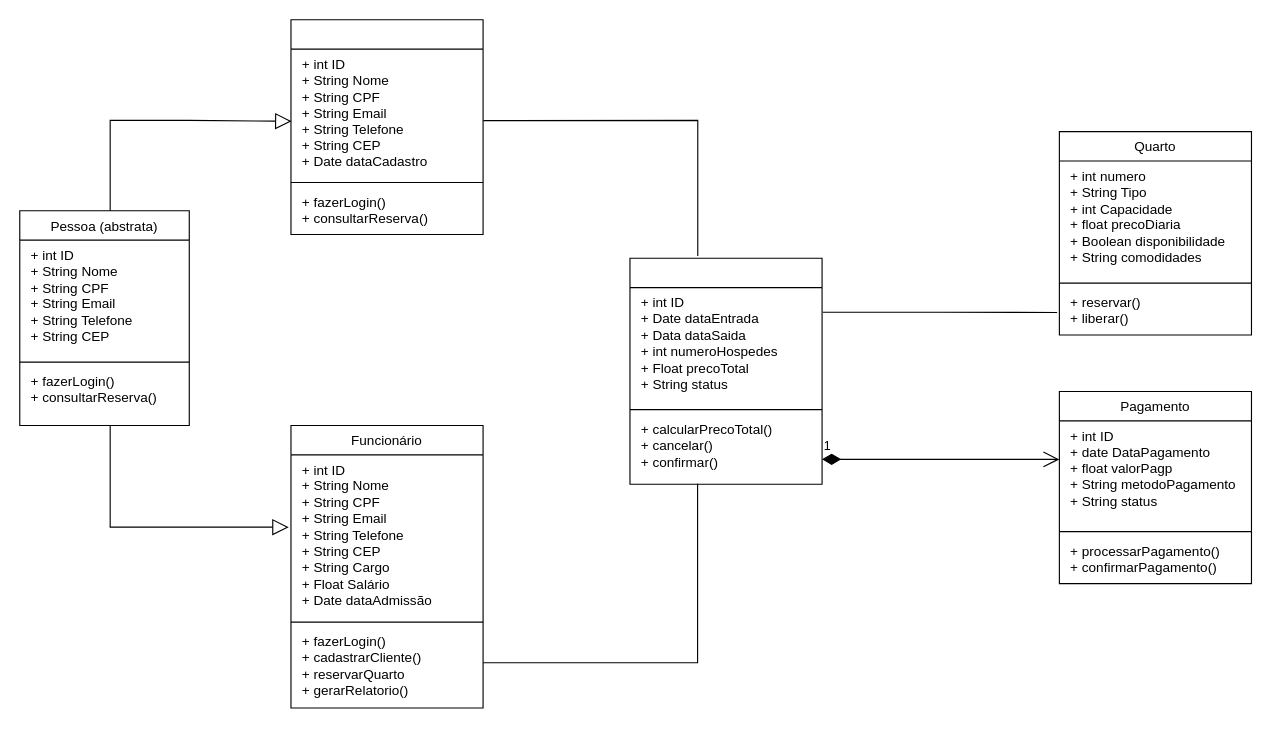
Image size: 1271x731. Some labels were removed from this diagram. Here are the shapes that lost their labels. From the top down, the box of each, then its label:
(290, 19, 483, 234): Cliente
(629, 257, 822, 484): Reserva
